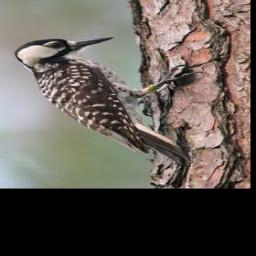Woodpecker: (13, 36, 202, 166)
